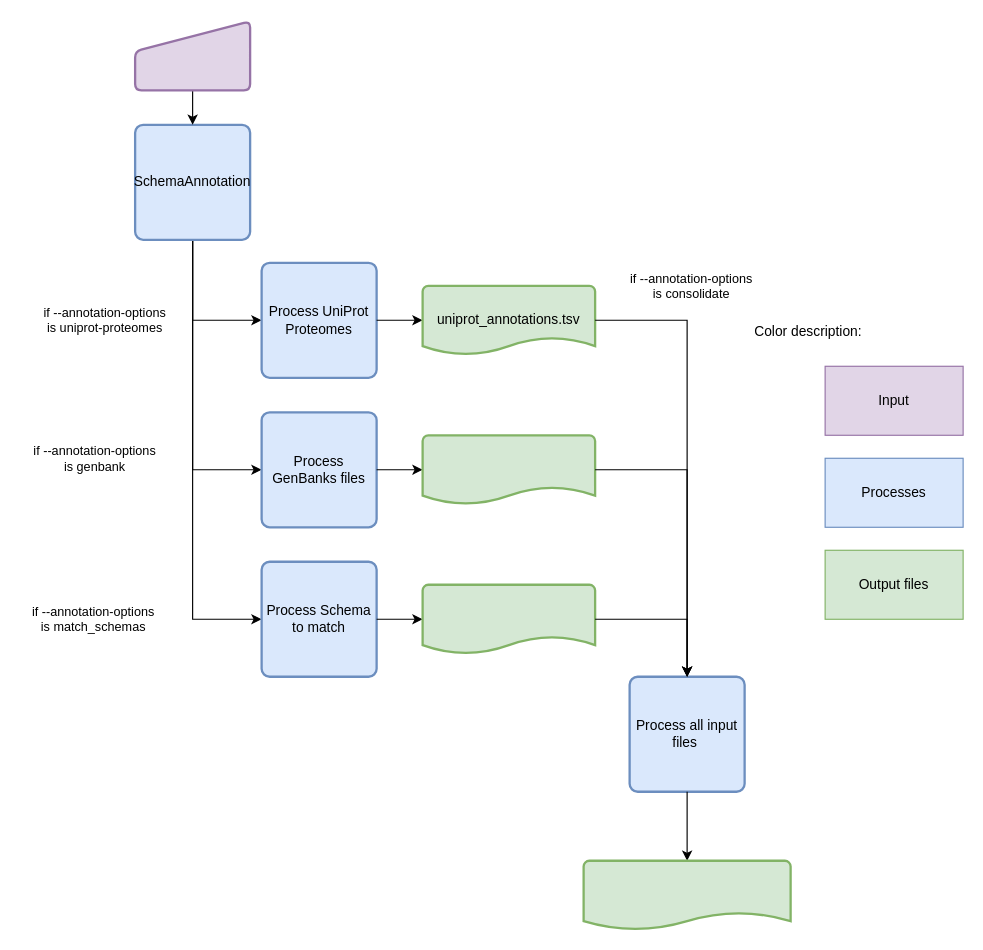
Image size: 983x950. Some labels were removed from this diagram. Each missing label, with the centre of its shape:
args: (x=192, y=55)
consolidated_annotations.tsv: (x=686, y=894)
genbank_annotations.tsv: (x=508, y=469)
matched_annotations.tsv: (x=508, y=618)
